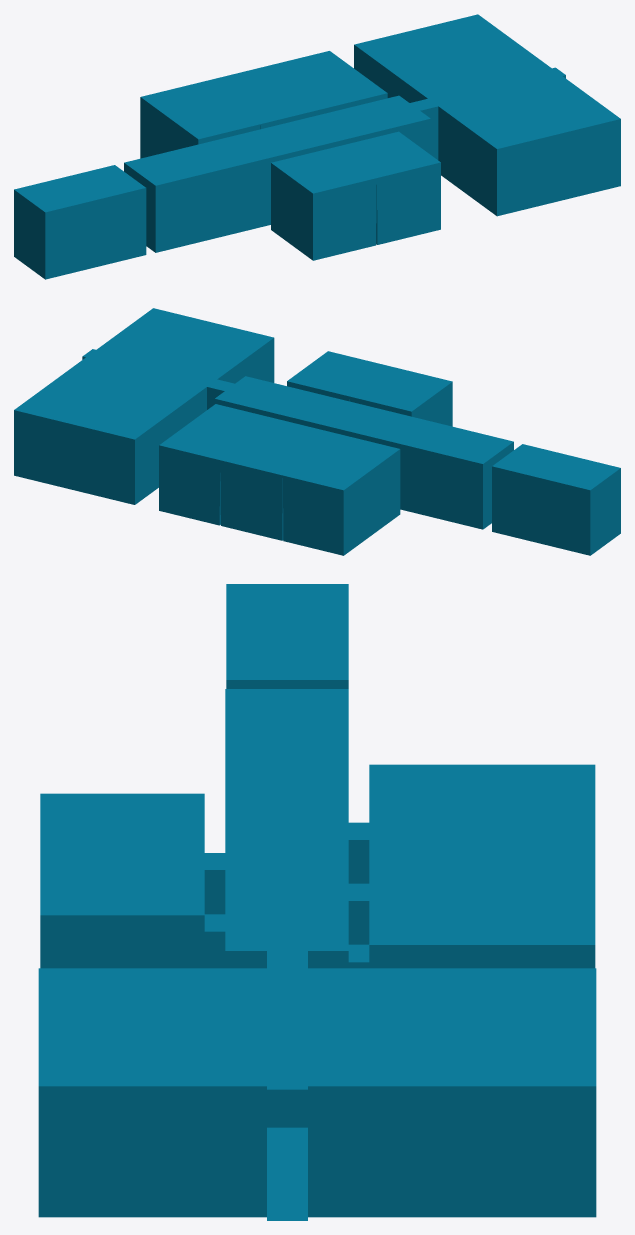
File: roomTemp2.fbx
3 renders of one model, top to bottom at view 1: azimuth 30°, elevation 25°; view 2: azimuth 150°, elevation 25°; view 3: azimuth 270°, elevation 25°, orthographic. The views are drawn at different scales.
Parts seen in each view (by area): view 1: pPlane1; view 2: pPlane1; view 3: pPlane1.
Boxes of the visible parts, x1,y1,x2,y2 form: pPlane1: [14, 14, 620, 279]; pPlane1: [14, 308, 620, 555]; pPlane1: [38, 584, 596, 1220].
Size of the model in its own units: 5784 by 699 by 2695.
